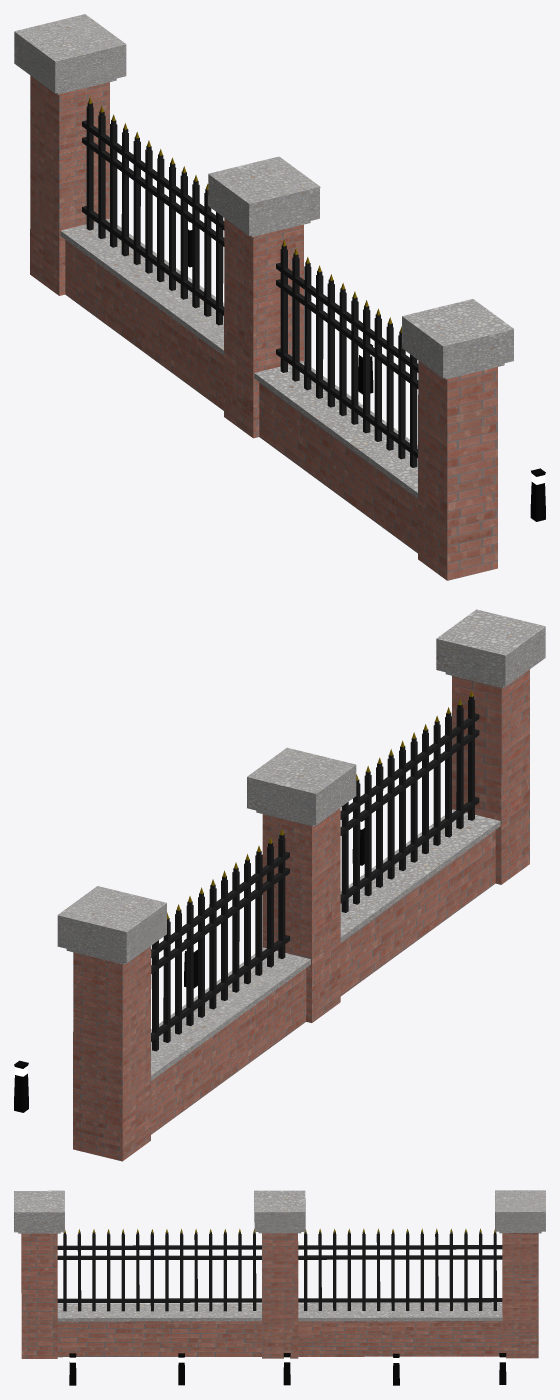
3 views of the same model, one above another, from view 1: azimuth 30°, elevation 25°; view 2: azimuth 150°, elevation 25°; view 3: azimuth 270°, elevation 25° (orthographic). The views are drawn at different scales.
Visible parts, largest first — view 1: Stup1_34, Stup2_35, Stup3_36, Cube.031_31, Cube.029_29, Cube.032_32, Cube.030_30, Cube.033_33, Cube.028_28, Cube.005_5, Cube.023_23, Cube.013_13 (+22 smaller); view 2: Stup2_35, Stup1_34, Stup3_36, Cube.033_33, Cube.031_31, Cube.028_28, Cube.032_32, Cube.030_30, Cube.029_29, Cube.003_3, Cube.001_1, Cube.022_22 (+22 smaller); view 3: Stup2_35, Stup1_34, Stup3_36, Cube.032_32, Cube.033_33, Cube.031_31, Cube.028_28, Cube.029_29, Cube.030_30, Cube.002_2, Cube.007_7, Cube.012_12 (+25 smaller).
Boxes of the visible parts, bbox=[...] form: Stup1_34: bbox=[254, 299, 513, 580]; Stup2_35: bbox=[60, 156, 320, 438]; Stup3_36: bbox=[14, 14, 126, 295]; Cube.031_31: bbox=[82, 120, 224, 230]; Cube.029_29: bbox=[276, 279, 418, 388]; Cube.032_32: bbox=[82, 137, 224, 246]; Cube.030_30: bbox=[276, 348, 417, 457]; Cube.033_33: bbox=[82, 206, 224, 315]; Cube.028_28: bbox=[276, 262, 418, 372]; Cube.005_5: bbox=[374, 308, 381, 441]; Cube.023_23: bbox=[133, 132, 140, 264]; Cube.013_13: bbox=[280, 239, 287, 372]; Stup2_35: bbox=[151, 747, 356, 1134]; Stup1_34: bbox=[340, 609, 545, 996]; Stup3_36: bbox=[57, 886, 166, 1161]; Cube.033_33: bbox=[151, 935, 289, 1041]; Cube.031_31: bbox=[151, 851, 289, 957]; Cube.028_28: bbox=[340, 713, 479, 819]; Cube.032_32: bbox=[151, 867, 289, 973]; Cube.030_30: bbox=[340, 797, 479, 903]; Cube.029_29: bbox=[340, 729, 479, 835]; Cube.003_3: bbox=[433, 715, 440, 845]; Cube.001_1: bbox=[456, 699, 463, 828]; Cube.022_22: bbox=[186, 896, 193, 1026]; Stup2_35: bbox=[254, 1190, 502, 1358]; Stup1_34: bbox=[14, 1190, 261, 1358]; Stup3_36: bbox=[495, 1190, 545, 1358]; Cube.032_32: bbox=[298, 1255, 502, 1259]; Cube.033_33: bbox=[298, 1298, 502, 1302]; Cube.031_31: bbox=[298, 1245, 502, 1249]; Cube.028_28: bbox=[57, 1245, 261, 1249]; Cube.029_29: bbox=[57, 1255, 261, 1259]; Cube.030_30: bbox=[57, 1298, 261, 1302]; Cube.002_2: bbox=[92, 1229, 95, 1311]; Cube.007_7: bbox=[165, 1229, 168, 1311]; Cube.012_12: bbox=[238, 1229, 241, 1311].
Size of the model in its own units: 8.4 by 13.08 by 41.83.
6 materials, 2 textured.
